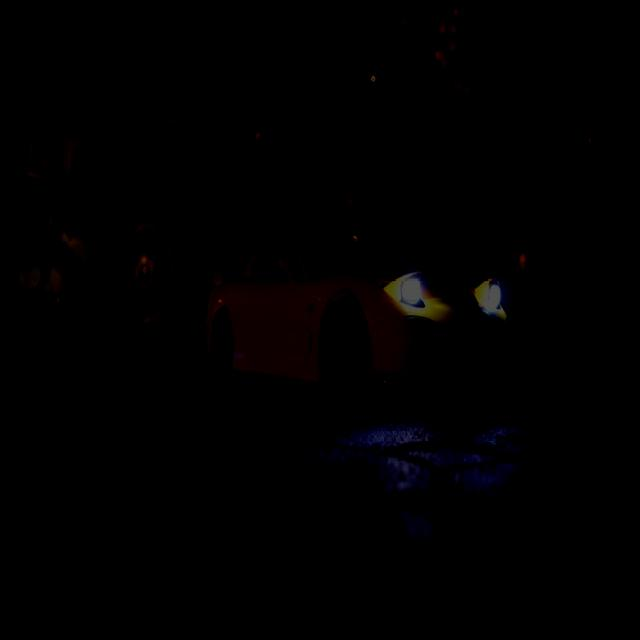Car: (103, 20, 640, 325), (205, 220, 512, 397)
